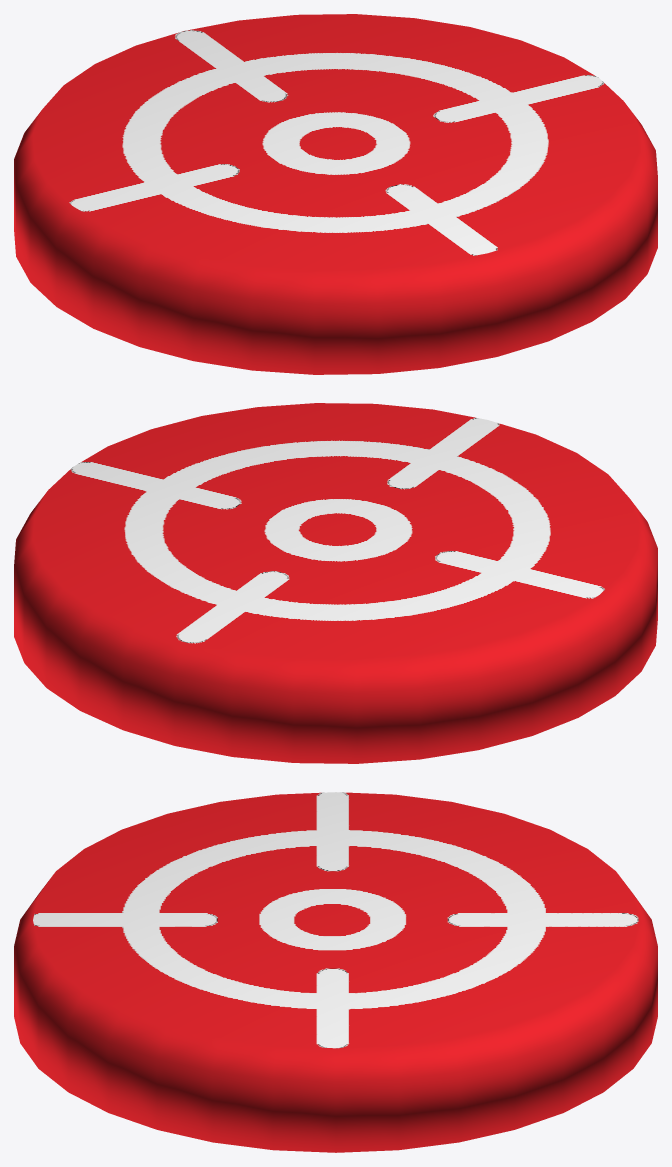
The model's file is aim.fbx.
The picture shows the model from 3 angles, top to bottom: view 1: azimuth 30°, elevation 25°; view 2: azimuth 150°, elevation 25°; view 3: azimuth 270°, elevation 25°; orthographic projection.
Visible parts, largest first — view 1: Cylinder; view 2: Cylinder; view 3: Cylinder.
Part boxes in pixels (x1=…): Cylinder: x1=14, y1=14, x2=657, y2=374; Cylinder: x1=14, y1=403, x2=657, y2=763; Cylinder: x1=14, y1=792, x2=657, y2=1152.
Bounding box in the file's own units: 200 × 33.08 × 200.
